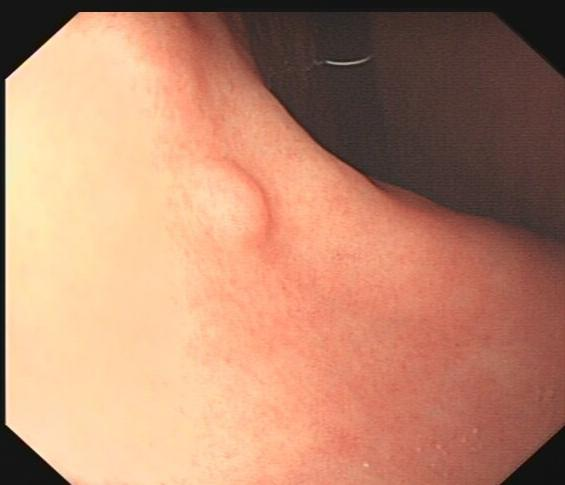Polyp: (184, 153, 277, 254)
